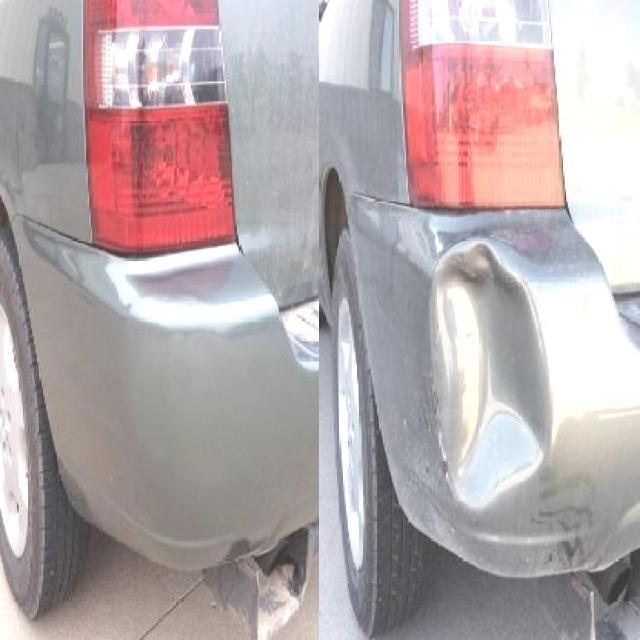minor: (428, 243, 555, 512)
